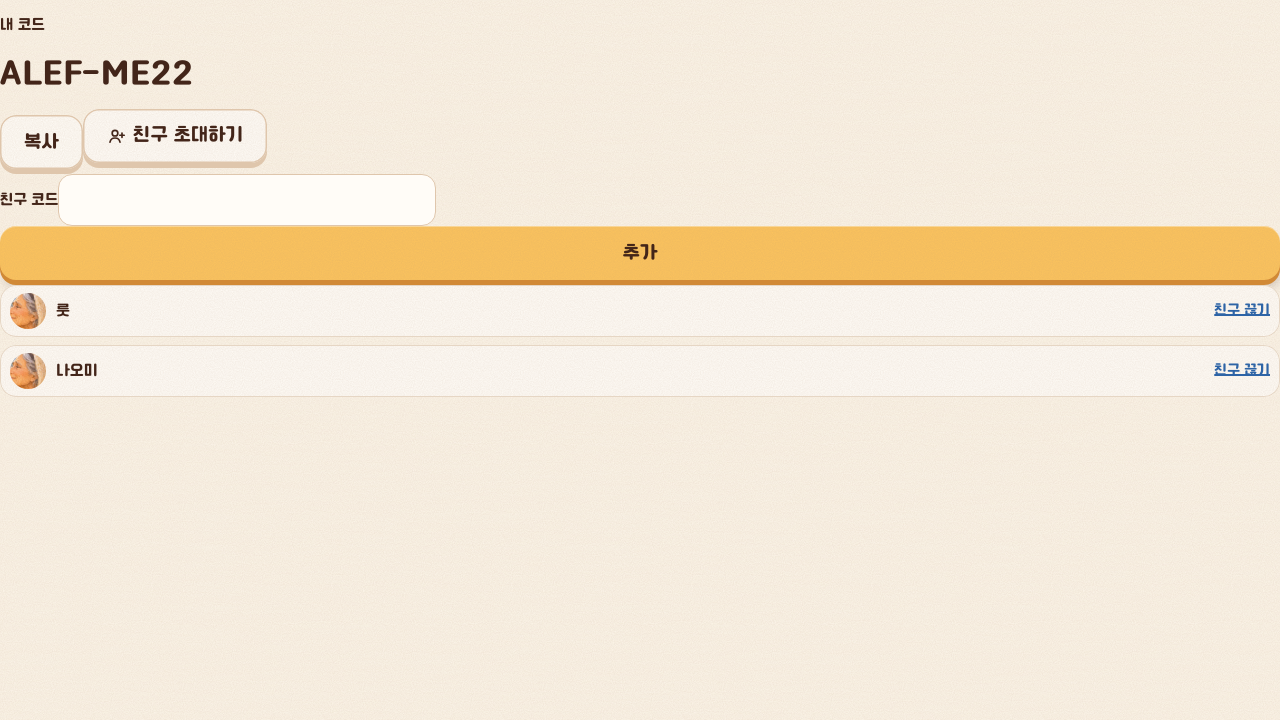
Test: FriendsManager › copy button writes my code to the clipboard
Expected: the text "룻" is shown, [56,300,70,322]
Click the button "복사": (42, 142) [0,115,83,169]
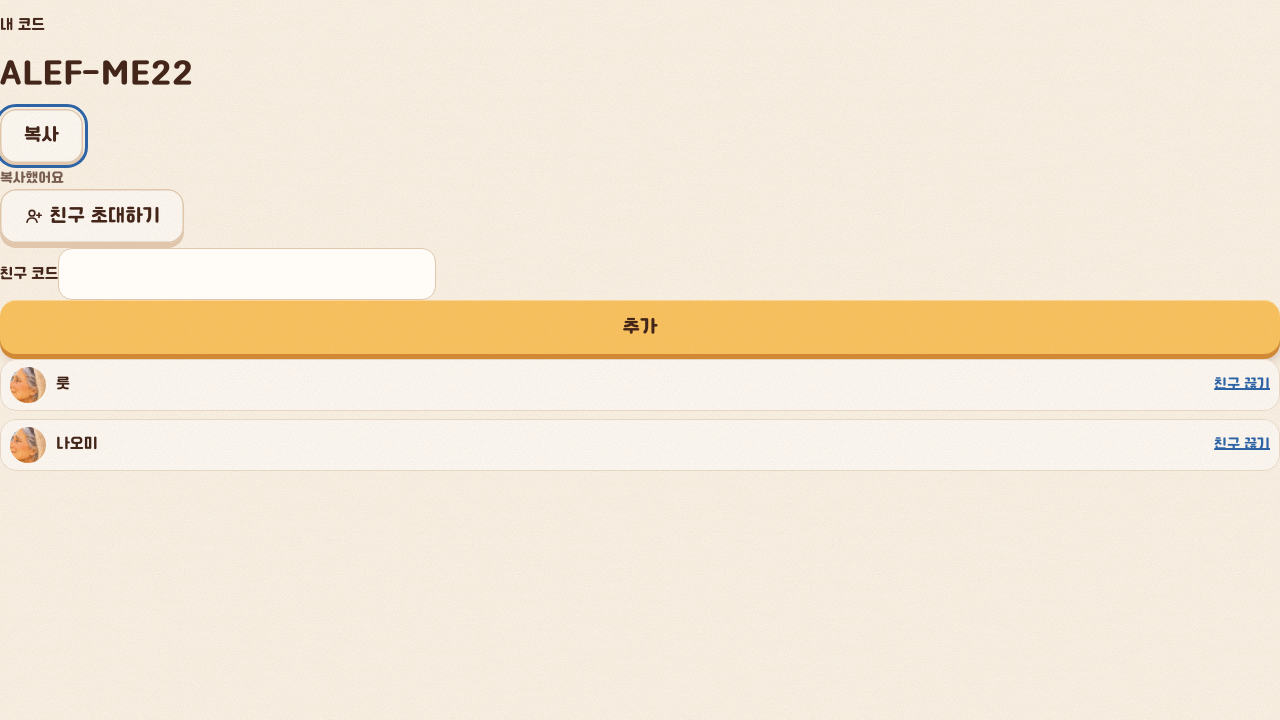
Now the text "복사했어요" is shown, box [0,170,64,186]
